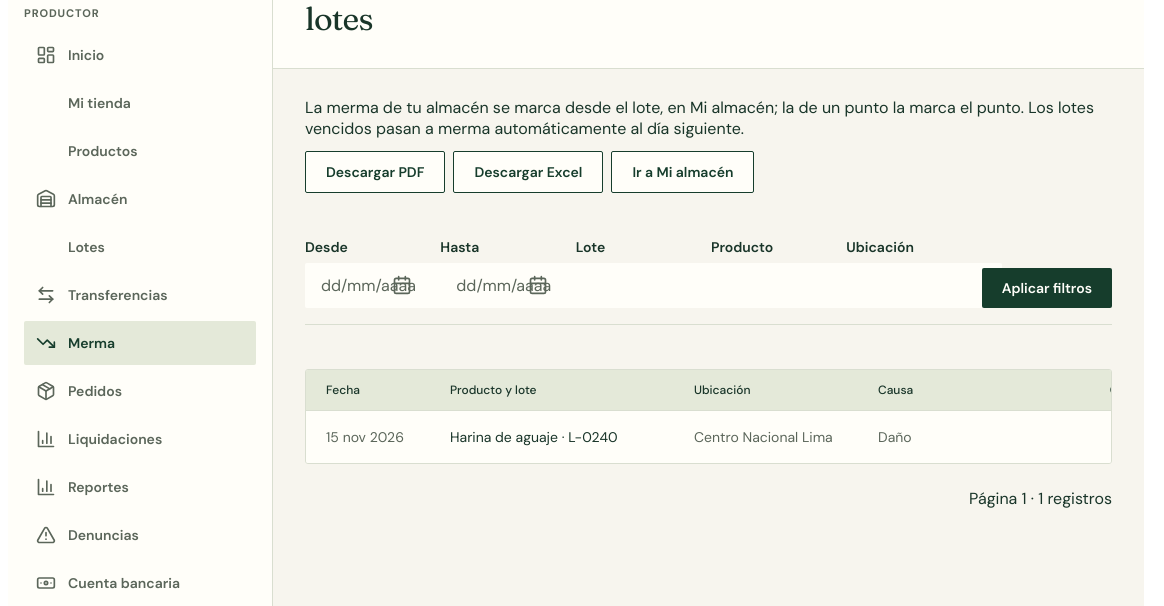
CCPIP-78 Reportes de merma › el productor realmente envía su filtro de ubicación y recibe el estado filtrado
Expected: the table named "Merma registrada" is shown, [305,369,1112,464]
Type "Almacén principal" into the field labelled "Ubicación" at (924, 285), box [846,263,1002,308]
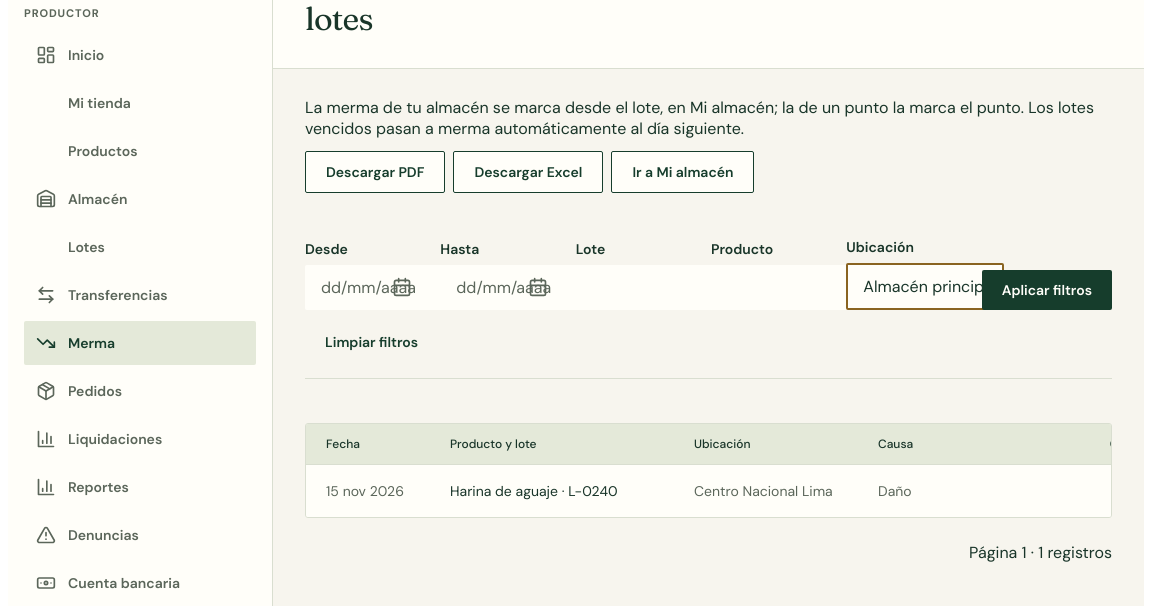
Click the button "Aplicar filtros" at (1047, 290), box [982,270,1112,310]
(page scrolled)
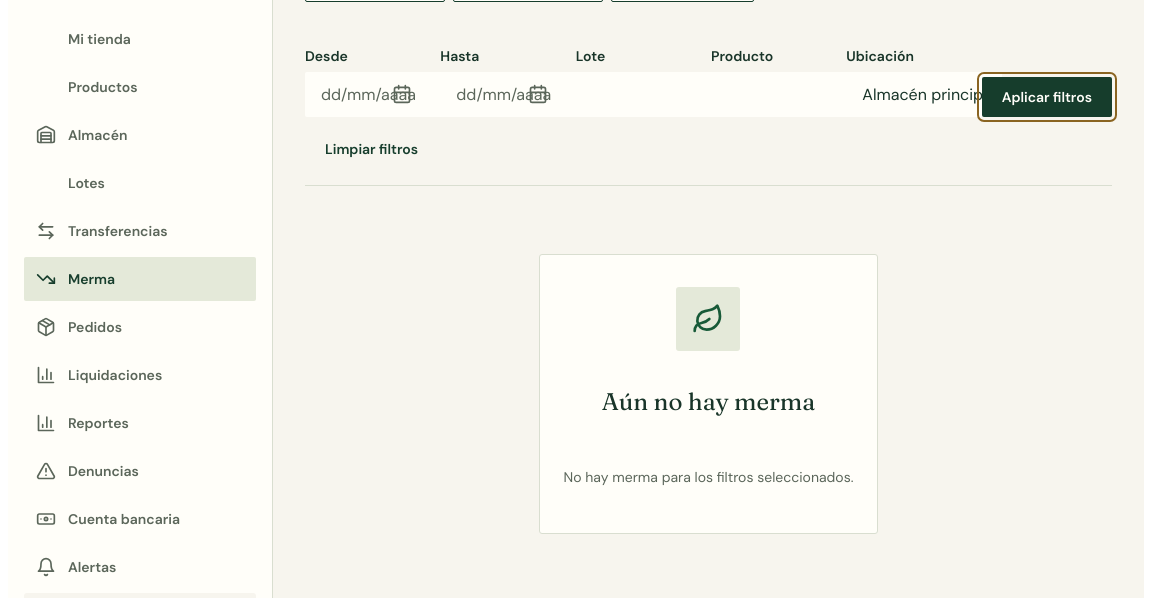
Now the text "No hay merma para los filtros seleccionados." is shown, box [564,467,853,487]
